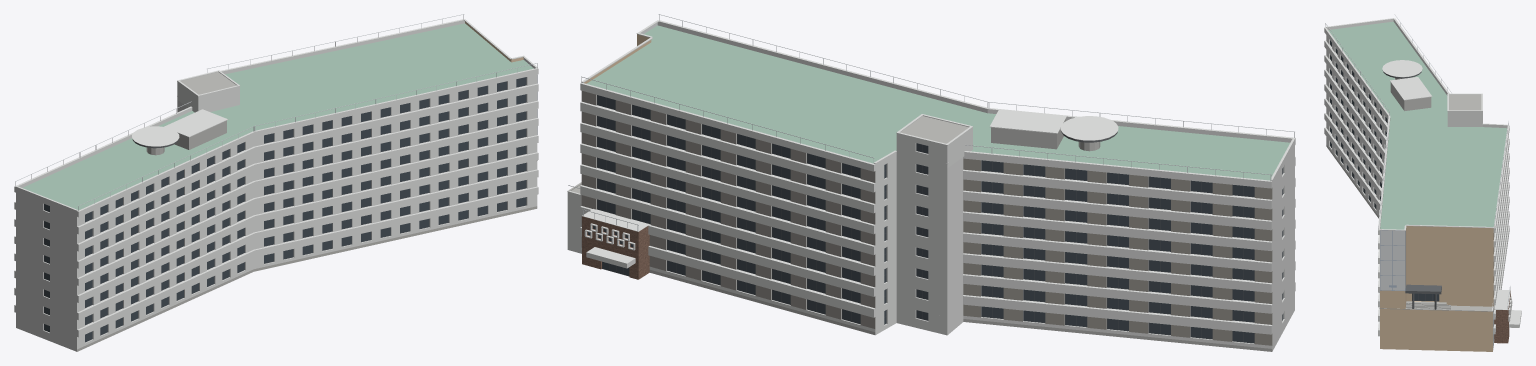
3 views of the same model, side by side, from view 1: azimuth 30°, elevation 25°; view 2: azimuth 150°, elevation 25°; view 3: azimuth 270°, elevation 25° (orthographic). The views are drawn at different scales.
Parts seen in each view (by area): view 1: seorabeol__white, seorabeol__roof, seorabeol__glass, seorabeol__frame, seorabeol__base, seorabeol__rail; view 2: seorabeol__white, seorabeol__roof, seorabeol__grey, seorabeol__glass, seorabeol__frame, seorabeol__base, seorabeol__brick, seorabeol__rail; view 3: seorabeol__roof, seorabeol__white, seorabeol__ochre, seorabeol__base, seorabeol__perf, seorabeol__glass, seorabeol__rail, seorabeol__brick, seorabeol__canopy, seorabeol__perfFrame, seorabeol__frame.
Part boxes in pixels (x1,y1,x2,y2): seorabeol__white: [14, 19, 538, 351]; seorabeol__roof: [22, 23, 533, 210]; seorabeol__glass: [44, 77, 526, 342]; seorabeol__frame: [44, 77, 526, 342]; seorabeol__base: [77, 72, 537, 351]; seorabeol__rail: [15, 14, 537, 210]; seorabeol__white: [567, 20, 1295, 351]; seorabeol__roof: [586, 25, 1289, 180]; seorabeol__grey: [581, 91, 1272, 345]; seorabeol__glass: [588, 95, 1283, 342]; seorabeol__frame: [587, 95, 1283, 343]; seorabeol__base: [568, 116, 1272, 351]; seorabeol__brick: [582, 216, 649, 279]; seorabeol__rail: [568, 14, 1294, 230]; seorabeol__roof: [1328, 21, 1507, 229]; seorabeol__white: [1324, 18, 1521, 349]; seorabeol__ochre: [1380, 226, 1493, 351]; seorabeol__base: [1326, 78, 1494, 345]; seorabeol__perf: [1380, 230, 1404, 290]; seorabeol__glass: [1330, 40, 1438, 301]; seorabeol__rail: [1325, 14, 1510, 309]; seorabeol__brick: [1494, 291, 1510, 343]; seorabeol__canopy: [1383, 71, 1441, 309]; seorabeol__perfFrame: [1380, 230, 1405, 291]; seorabeol__frame: [1330, 45, 1439, 301].
Bounding box in the file's own units: 108 × 31.02 × 41.94.
12 materials, 1 textured.
